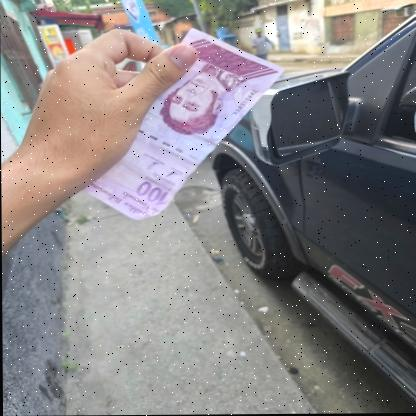one_hundred-front-vef: (79, 27, 287, 223)
